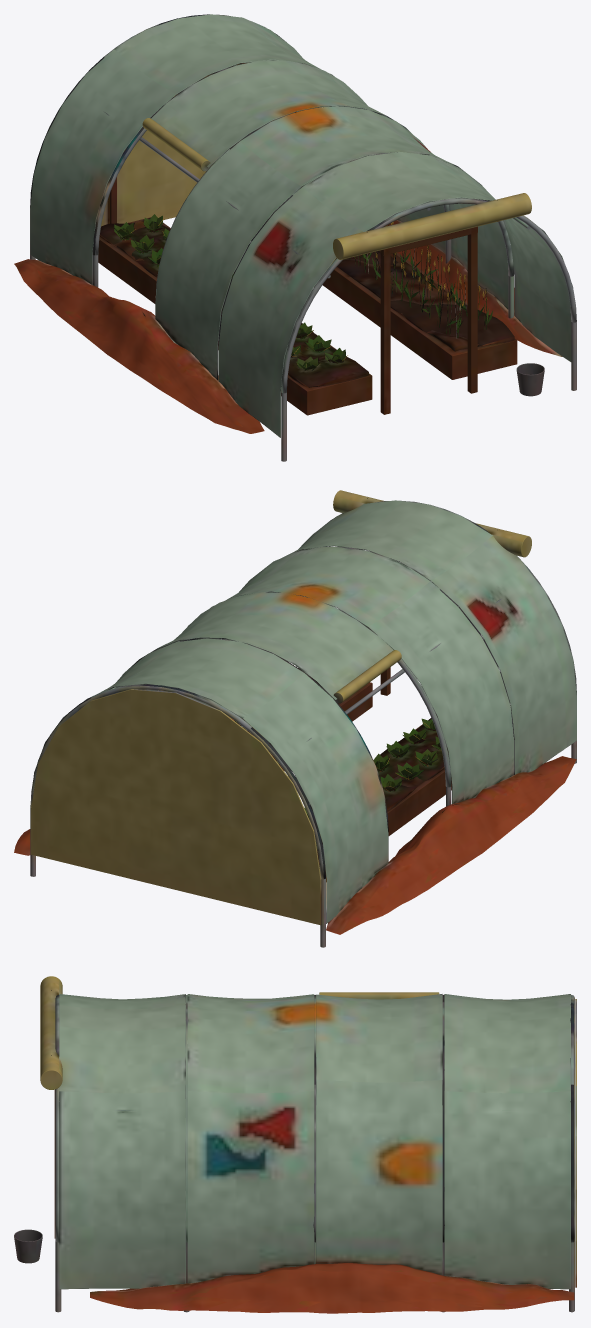
Rendered from greenhouse.glb.
3 renders of one model, top to bottom at view 1: azimuth 30°, elevation 25°; view 2: azimuth 150°, elevation 25°; view 3: azimuth 270°, elevation 25°, orthographic. The views are drawn at different scales.
Visible parts, largest first — view 1: greenhouse; view 2: greenhouse; view 3: greenhouse.
Boxes of the visible parts, box(x1,y1,x2,y2) form: greenhouse: box(14, 14, 576, 461); greenhouse: box(14, 490, 576, 947); greenhouse: box(14, 976, 576, 1313).
Bounding box in the file's own units: 5.2 × 2.95 × 6.58.
Materials: 1 (1 with a texture image).
